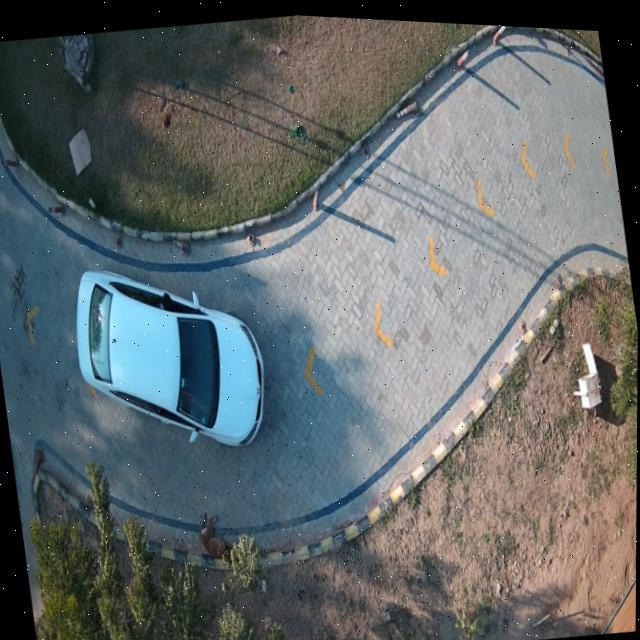car: (77, 269, 265, 443)
